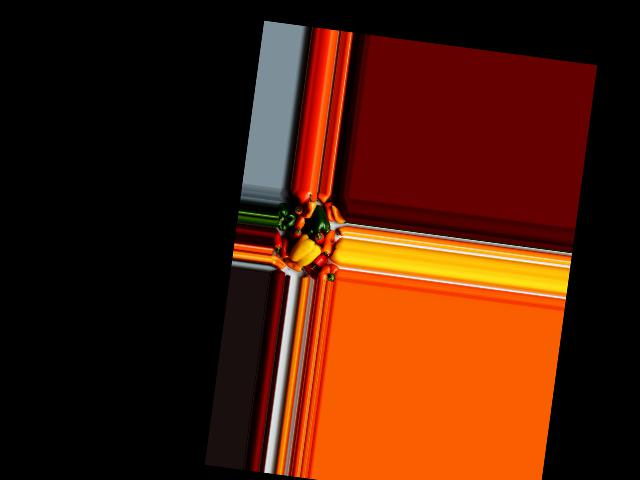bell_pepper: (271, 231, 286, 254)
